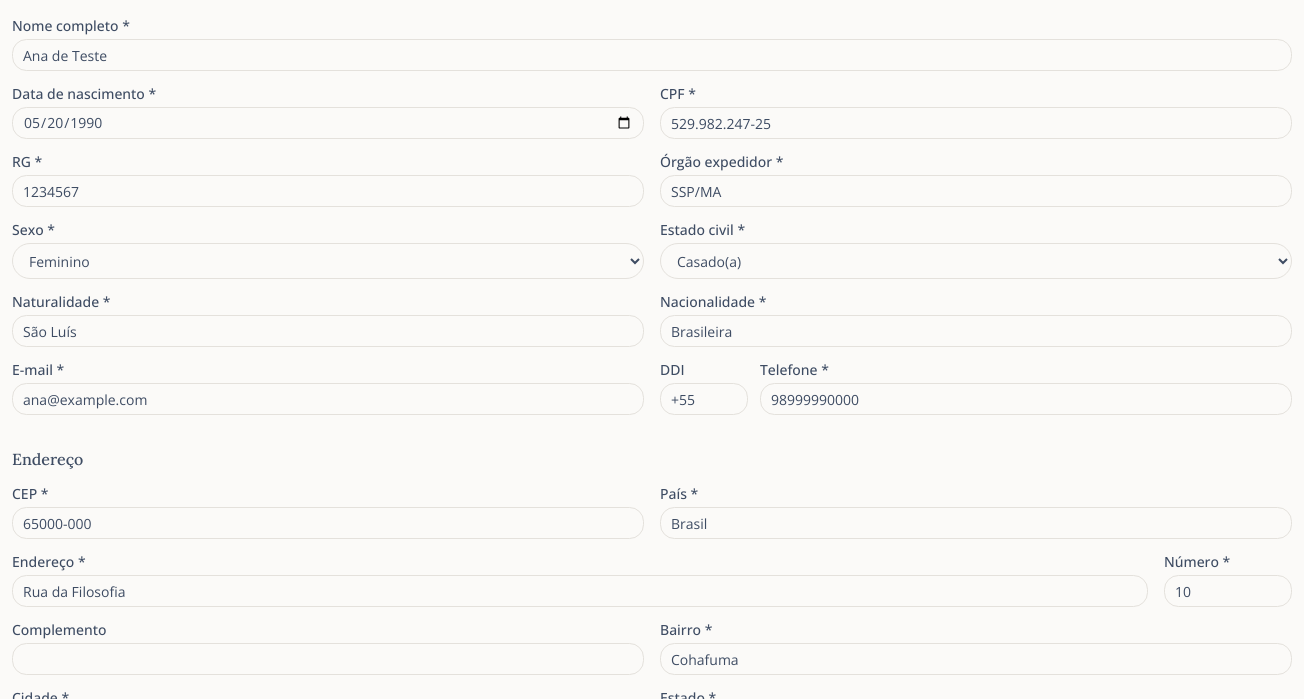
Test: FormularioDoCadastro › recusa do servidor aparece e não apaga o que foi digitado
Step 1. Replace the text in the field labelled "Bairro *" with "Renascença" → (976,659), box [660,643,1292,675]
(page scrolled)
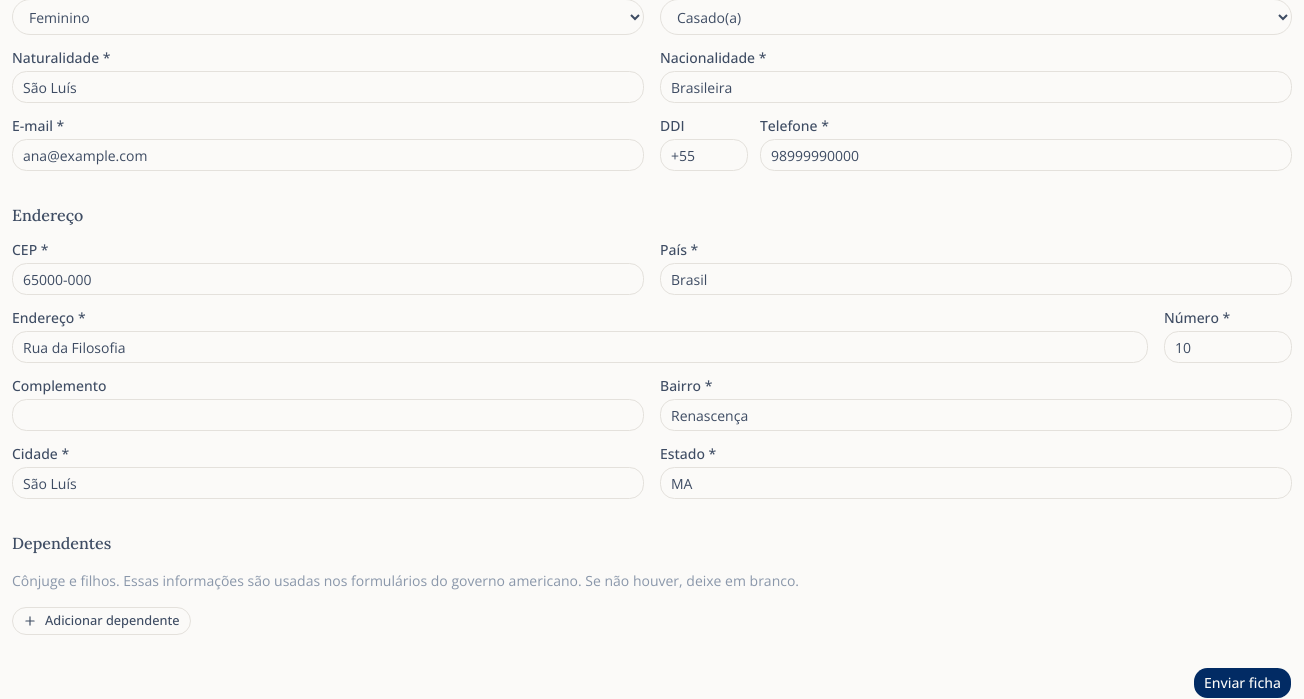
Step 2. Click the button "Enviar ficha" → (1242,683), box [1193,667,1292,698]
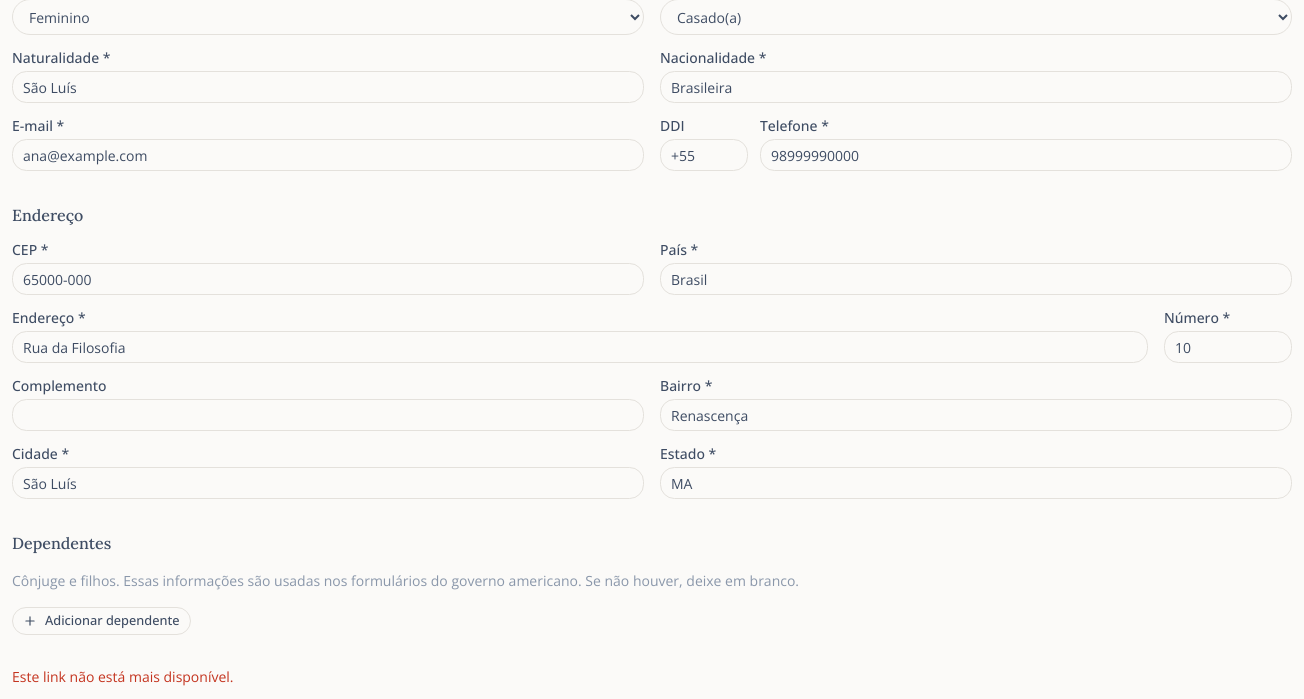
Result: the text "Este link não está mais disponível." is shown at [12,667,234,686]
